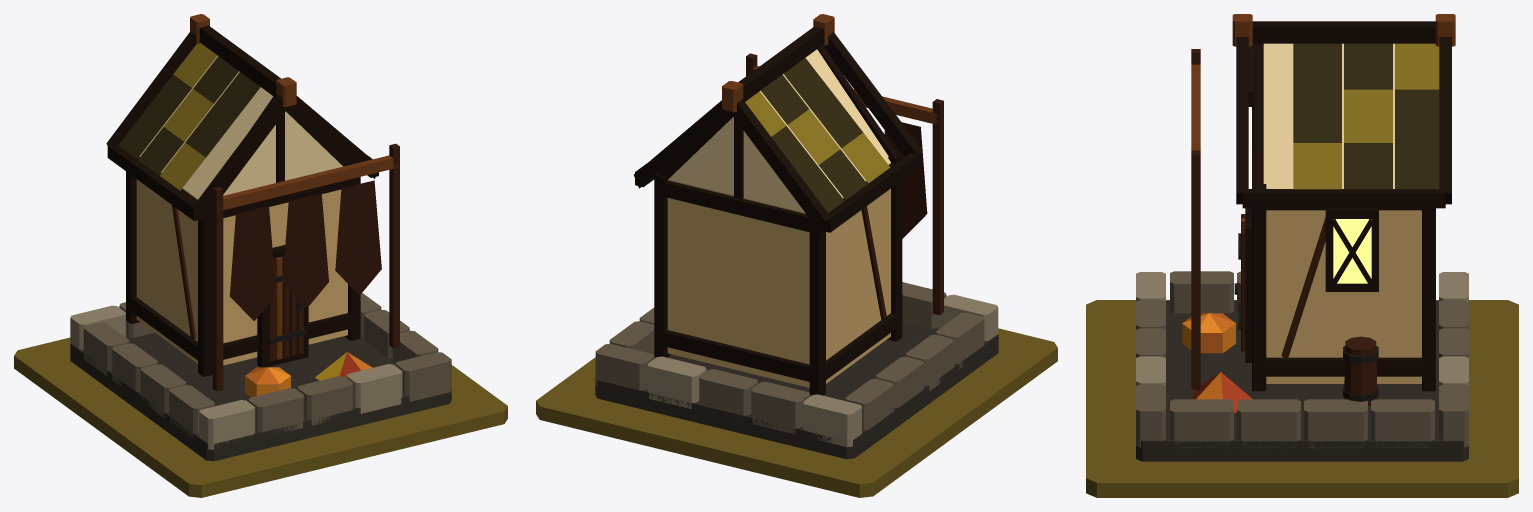
File: tannery_t1.glb
3 views of the same model, side by side, from view 1: azimuth 30°, elevation 25°; view 2: azimuth 150°, elevation 25°; view 3: azimuth 270°, elevation 25° (orthographic). The views are drawn at different scales.
Visible parts, largest first — view 1: MMR | tannery | T01 Architecture.001, MMR | tannery | Tier 01 Ground.001, MMR | tannery | T01 Autumn Dressing.001; view 2: MMR | tannery | T01 Architecture.001, MMR | tannery | Tier 01 Ground.001; view 3: MMR | tannery | T01 Architecture.001, MMR | tannery | Tier 01 Ground.001, MMR | tannery | T01 Autumn Dressing.001.
Part boxes in pixels (bbox=[...]): MMR | tannery | T01 Architecture.001: bbox=[70, 14, 451, 461]; MMR | tannery | Tier 01 Ground.001: bbox=[14, 337, 507, 497]; MMR | tannery | T01 Autumn Dressing.001: bbox=[245, 352, 372, 397]; MMR | tannery | T01 Architecture.001: bbox=[595, 14, 998, 459]; MMR | tannery | Tier 01 Ground.001: bbox=[536, 328, 1057, 497]; MMR | tannery | T01 Architecture.001: bbox=[1136, 14, 1468, 461]; MMR | tannery | Tier 01 Ground.001: bbox=[1086, 300, 1518, 497]; MMR | tannery | T01 Autumn Dressing.001: bbox=[1182, 313, 1252, 412].
Size of the model in its own units: 1.3 by 1.29 by 1.3.
Materials: 2 (1 with a texture image).
